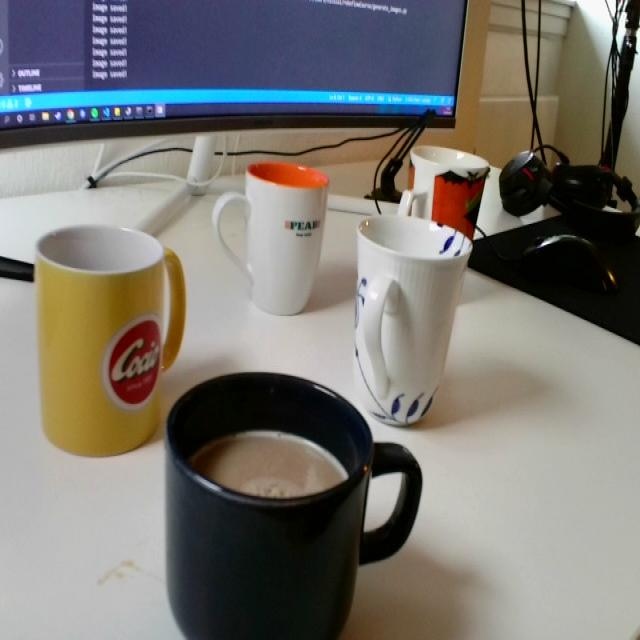Cocio Cup: (33, 221, 189, 458)
Cup: (158, 371, 430, 640)
Halloween cup: (406, 147, 491, 242)
Hand painted cup: (350, 212, 473, 426)
White Cup: (215, 160, 332, 316)
